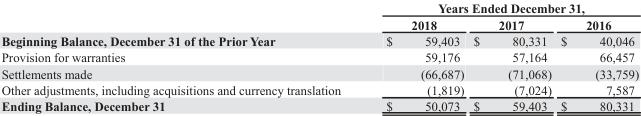table: (0, 0, 638, 113)
table column: (0, 0, 362, 113), (362, 0, 468, 113), (468, 0, 555, 113), (555, 0, 638, 113)
table column header: (0, 0, 638, 32)
table row: (0, 48, 638, 65), (0, 0, 638, 16), (0, 16, 638, 32), (0, 32, 638, 48), (0, 65, 638, 81), (0, 81, 638, 97), (0, 97, 638, 113)
table spanning cell: (362, 0, 638, 16)
